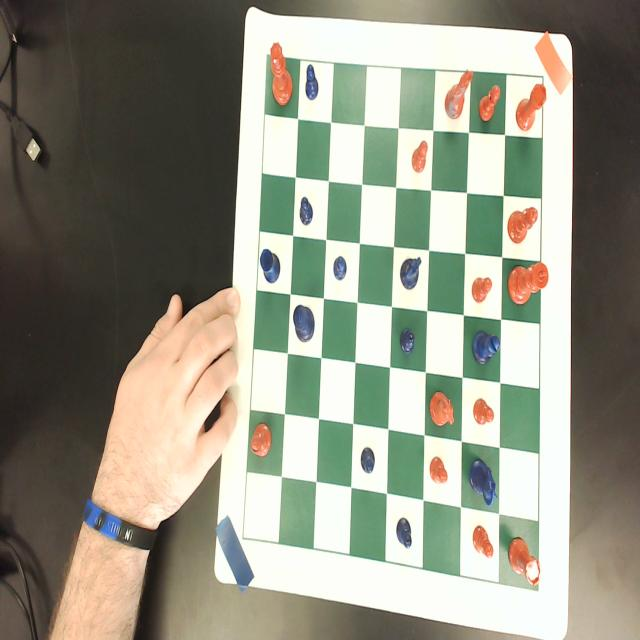B: (472, 329, 500, 366)
K: (293, 304, 315, 344)
N: (469, 457, 498, 508), (399, 256, 422, 290)
P: (396, 516, 412, 549), (398, 327, 416, 354), (306, 64, 318, 102), (360, 446, 376, 474), (299, 196, 313, 227), (333, 256, 347, 281)
R: (260, 248, 280, 284)
b: (507, 206, 538, 243), (250, 422, 272, 458)
cb: (243, 55, 543, 592)
k: (507, 261, 549, 306)
n: (444, 69, 475, 122), (430, 390, 454, 428)
p: (478, 84, 501, 122), (472, 524, 494, 560), (472, 397, 495, 425), (429, 455, 448, 485), (412, 139, 428, 174), (472, 276, 492, 303)
q: (270, 42, 293, 107)
r: (508, 536, 540, 588), (516, 83, 547, 131)
